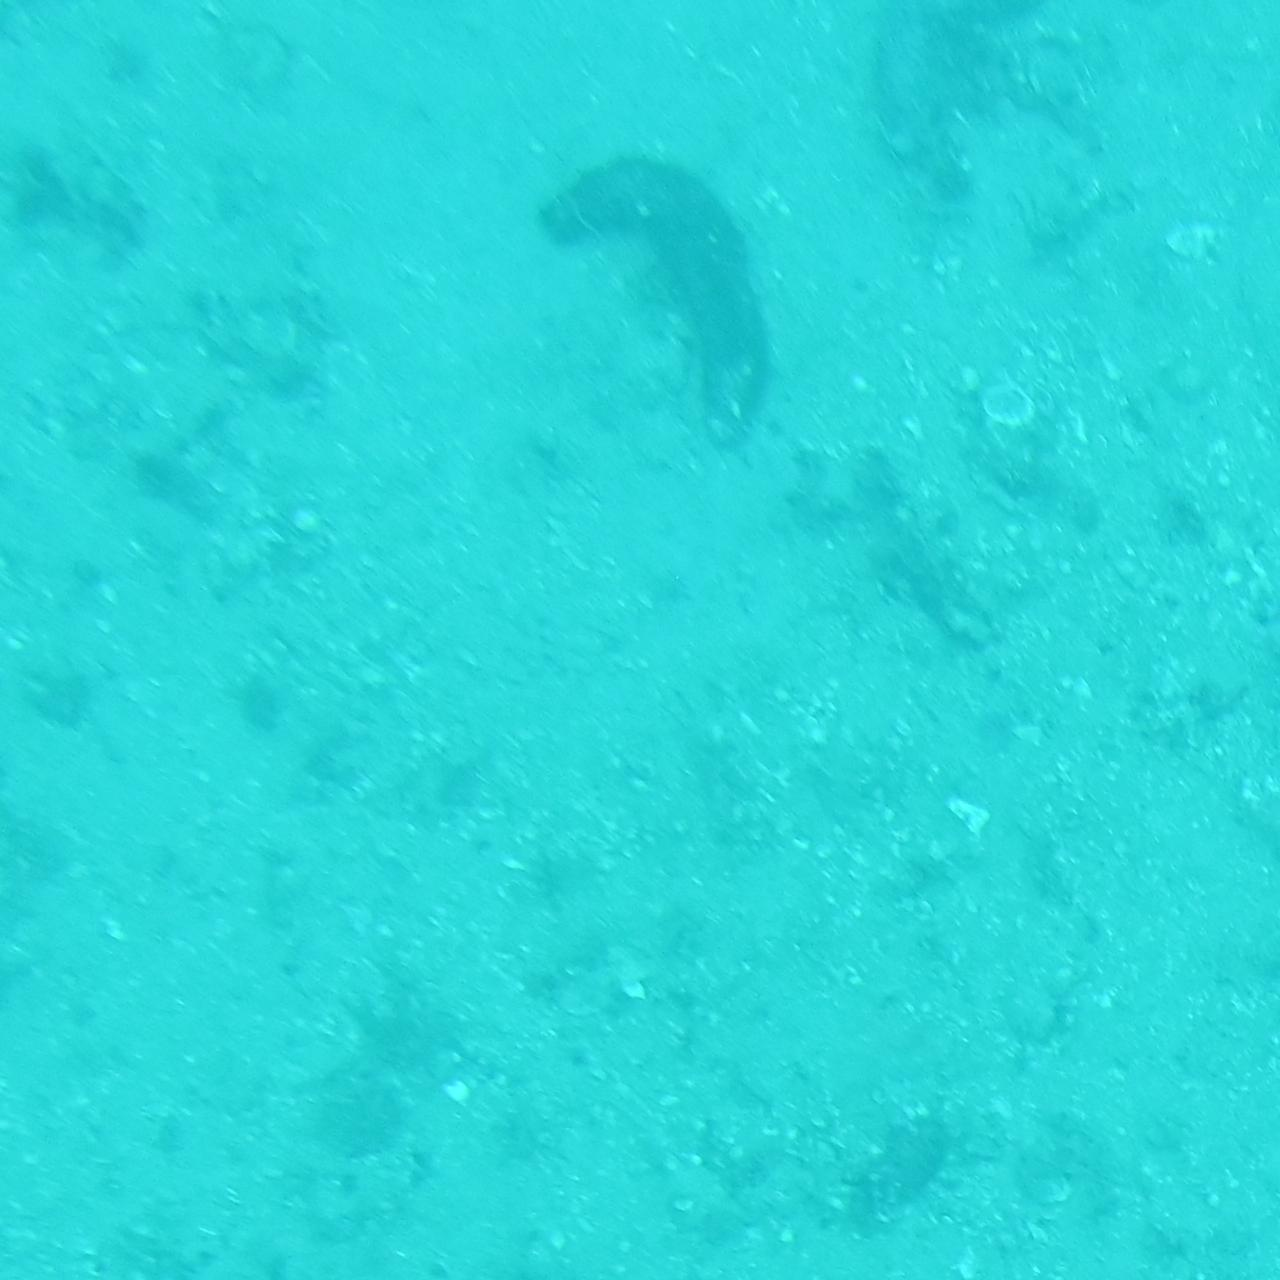Holothuria tubulosa: (524, 140, 756, 451)
